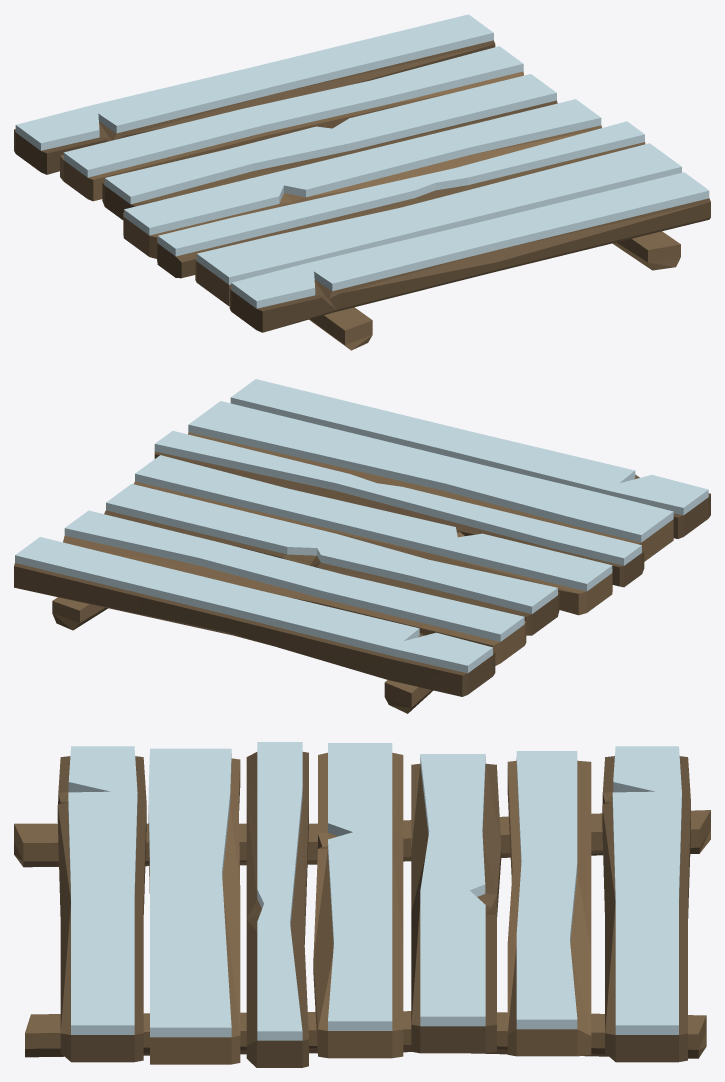
The model's file is Muelle03.glb.
3 renders of one model, top to bottom at view 1: azimuth 30°, elevation 25°; view 2: azimuth 150°, elevation 25°; view 3: azimuth 270°, elevation 25°, orthographic. The views are drawn at different scales.
Parts seen in each view (by area): view 1: SM_Prop_Dock_03_Snow; view 2: SM_Prop_Dock_03_Snow; view 3: SM_Prop_Dock_03_Snow.
Part boxes in pixels (left/top/right/bottom): SM_Prop_Dock_03_Snow: left=14, top=14, right=710, bottom=350; SM_Prop_Dock_03_Snow: left=14, top=379, right=710, bottom=713; SM_Prop_Dock_03_Snow: left=14, top=742, right=710, bottom=1067.
Size of the model in its own units: 3.18 by 0.3265 by 3.23.
1 material, 1 textured.
